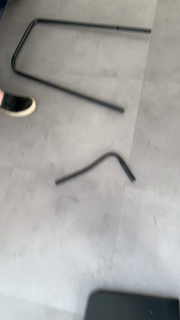L pipe: (53, 149, 138, 192)
U pipe: (8, 16, 153, 119)
